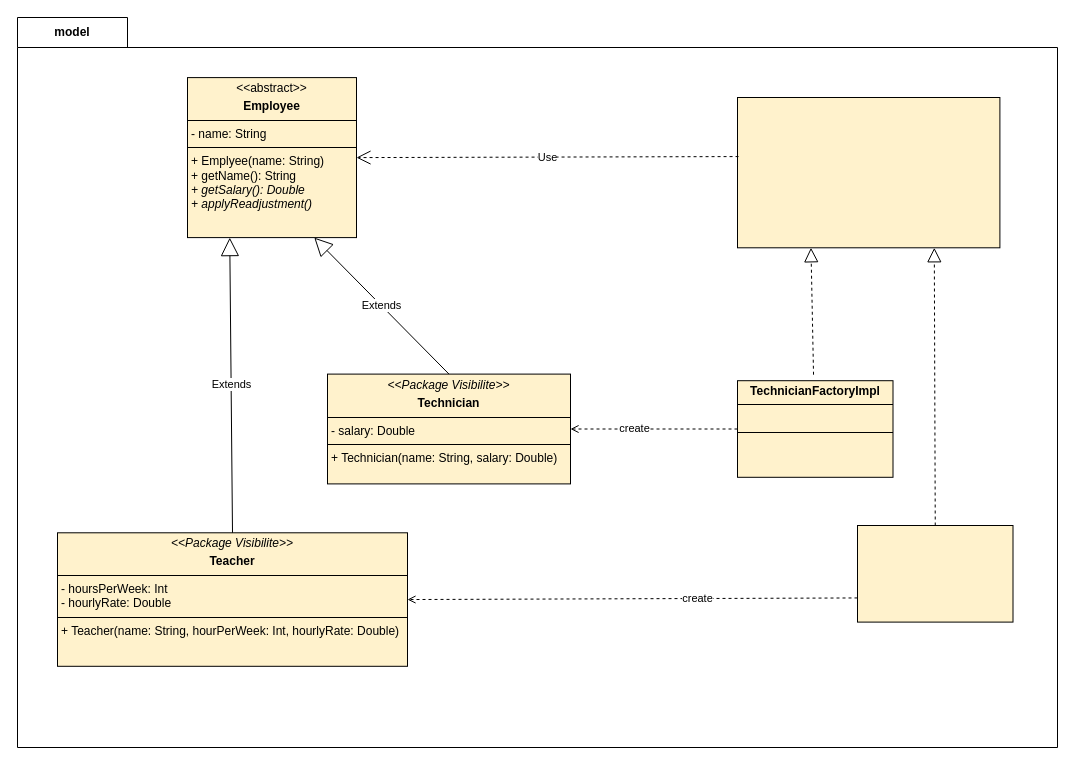
Image size: 1075x765. Some labels were removed from this diagram. Each missing label, with the centre of its shape:
"<<Interface>> EmployeeFactory + factoryMethod(args[ ]: Object): Employee" goes at point 868,172.
"TeacherFactoryImpl" goes at point 934,573.
